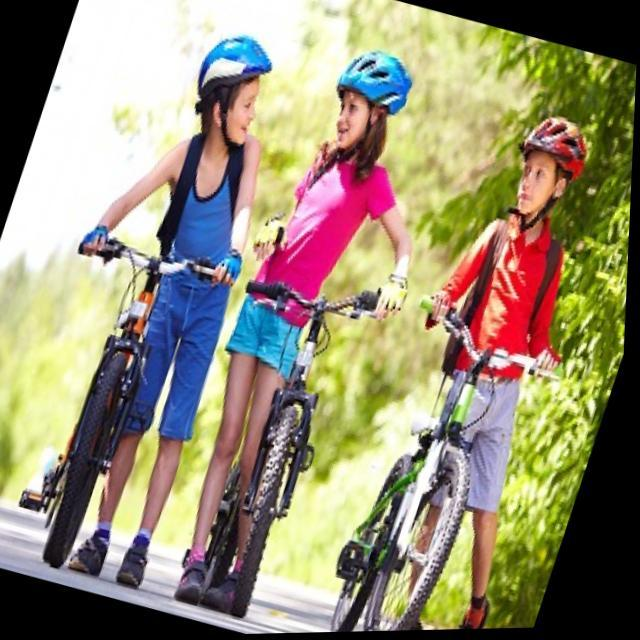Helmet: (323, 45, 420, 171), (504, 106, 600, 228), (186, 29, 265, 161)
